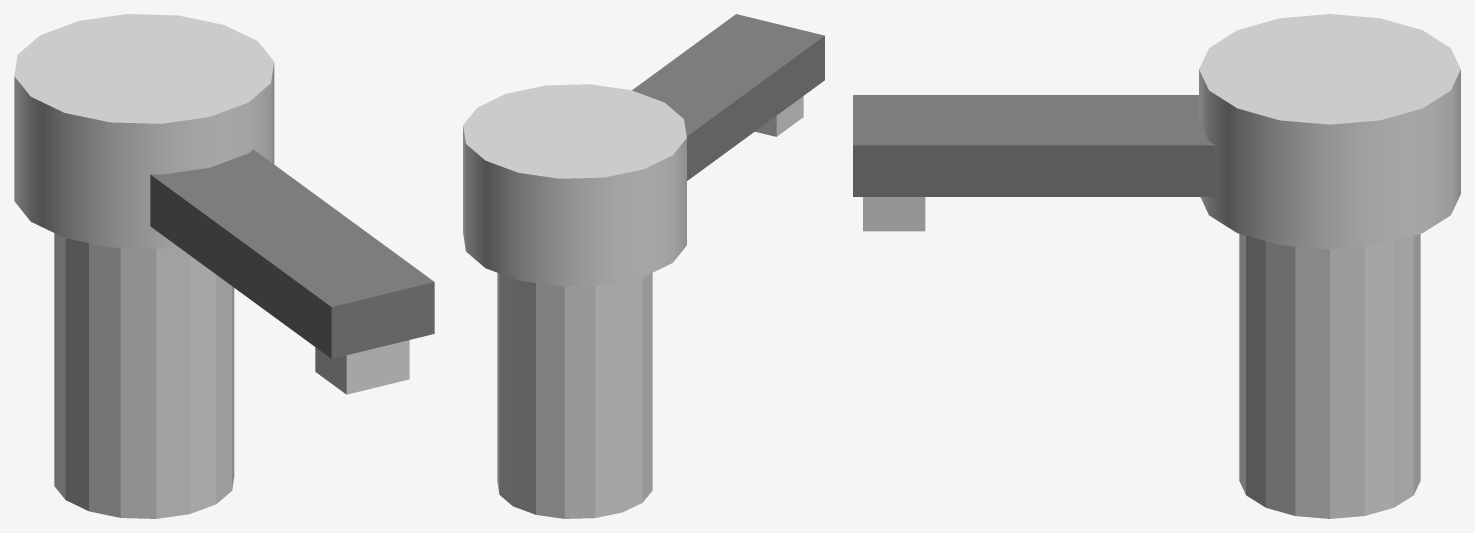
File: AlcoholDisp_2_B.obj
3 renders of one model, left to right at view 1: azimuth 30°, elevation 25°; view 2: azimuth 150°, elevation 25°; view 3: azimuth 270°, elevation 25°, orthographic. The views are drawn at different scales.
Visible parts, largest first — view 1: AlcoholDisp_2_B; view 2: AlcoholDisp_2_B; view 3: AlcoholDisp_2_B.
Part boxes in pixels (x1,y1,x2,y2): AlcoholDisp_2_B: [14, 14, 434, 518]; AlcoholDisp_2_B: [463, 14, 824, 518]; AlcoholDisp_2_B: [853, 14, 1460, 518].
Size of the model in its own units: 0.0611 by 0.1059 by 0.1418.
